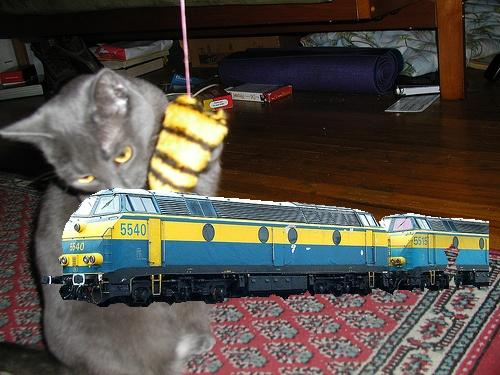tampered: (43, 189, 489, 307)
